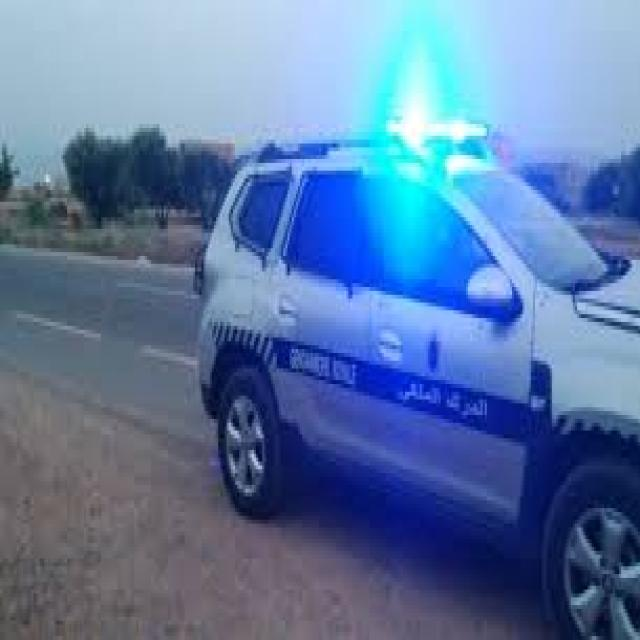gendarme car: (189, 96, 640, 640)
